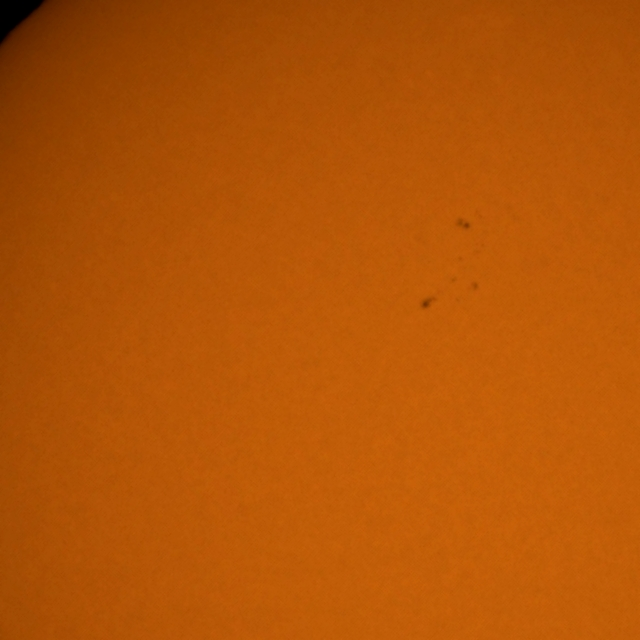sunspot: (451, 275, 477, 302), (419, 294, 438, 312), (455, 216, 471, 232), (450, 274, 458, 285)
